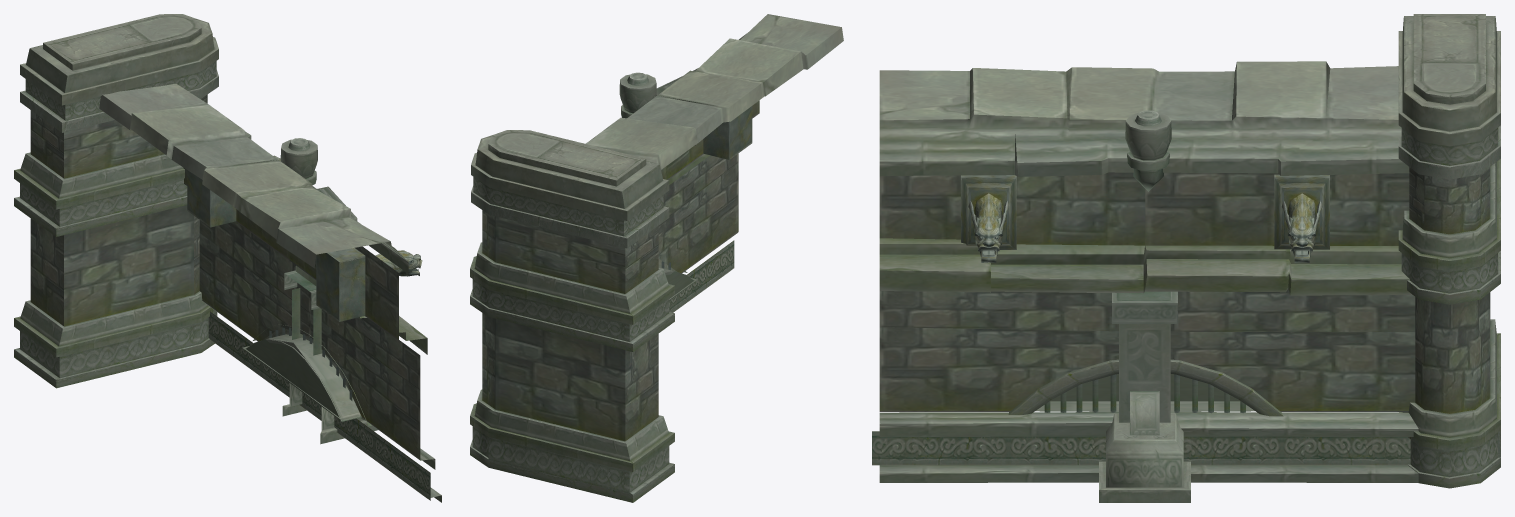
The model's file is wlf_qiang05_w.FBX.
The picture shows the model from 3 angles, left to right: view 1: azimuth 30°, elevation 25°; view 2: azimuth 150°, elevation 25°; view 3: azimuth 270°, elevation 25°; orthographic projection. The views are drawn at different scales.
Visible parts, largest first — view 1: wlf_qiang05_w; view 2: wlf_qiang05_w; view 3: wlf_qiang05_w.
Part boxes in pixels (bbox=[...]): wlf_qiang05_w: bbox=[14, 14, 441, 502]; wlf_qiang05_w: bbox=[470, 14, 843, 502]; wlf_qiang05_w: bbox=[872, 14, 1500, 502].
Size of the model in its own units: 28.67 by 41.8 by 62.58.
